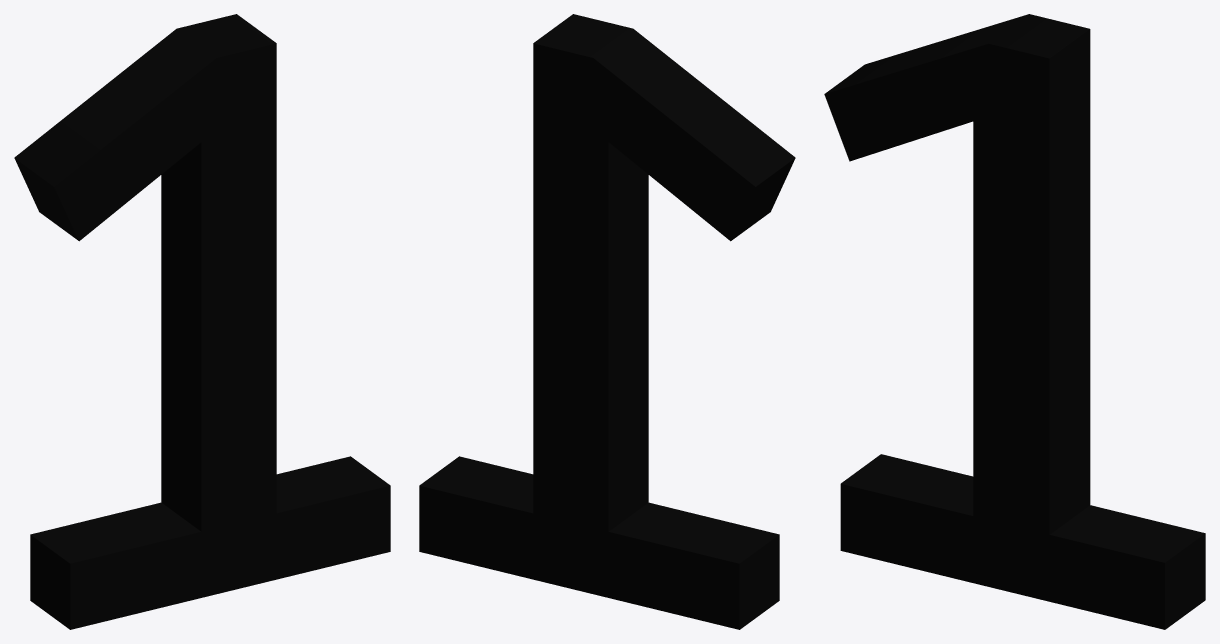
3 views of the same model, side by side, from view 1: azimuth 30°, elevation 25°; view 2: azimuth 150°, elevation 25°; view 3: azimuth 330°, elevation 25° (orthographic).
Parts seen in each view (by area): view 1: node_id57; view 2: node_id57; view 3: node_id57.
Boxes of the visible parts, bbox=[...] form: node_id57: bbox=[14, 14, 390, 629]; node_id57: bbox=[419, 14, 795, 629]; node_id57: bbox=[824, 14, 1205, 629].
Size of the model in its own units: 0.091 by 0.1386 by 0.0188.
Materials: 1 (1 with a texture image).
